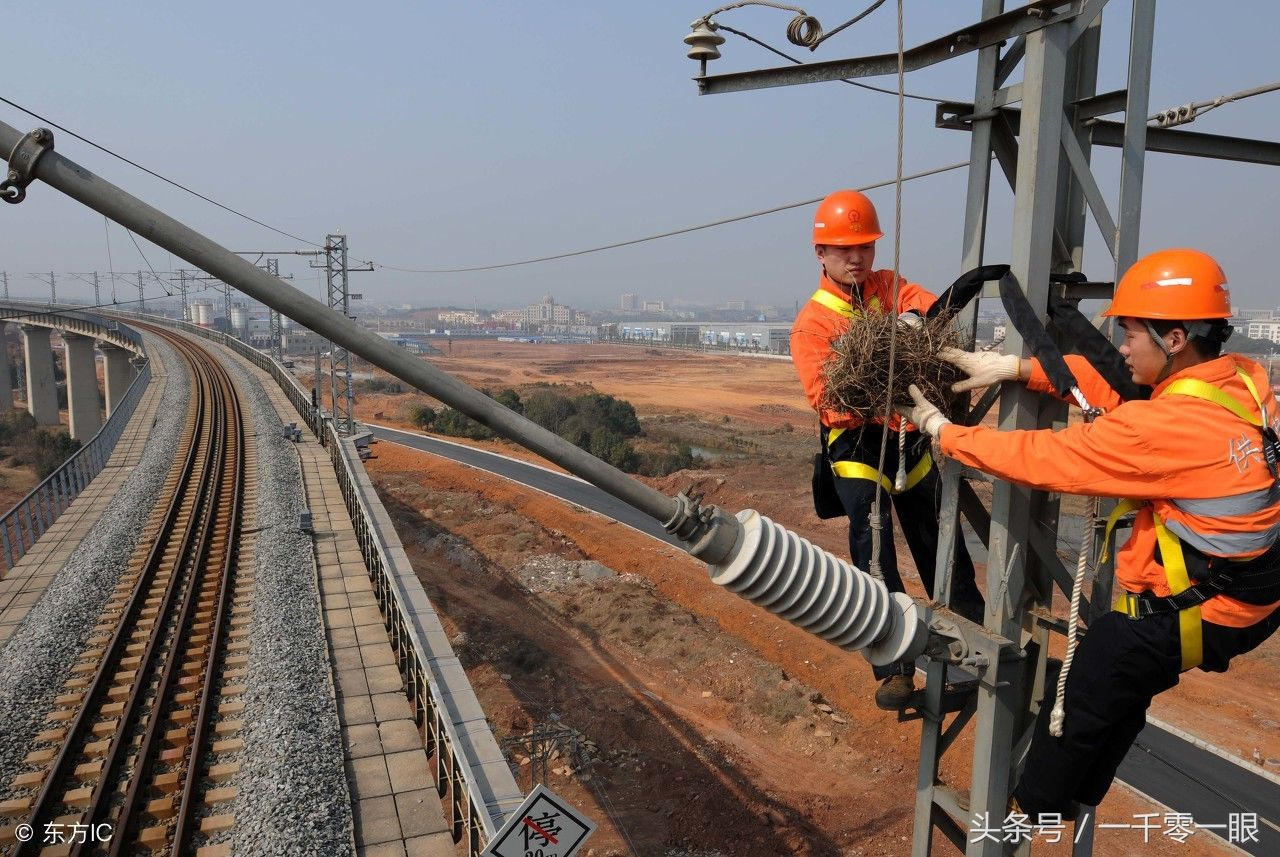bird-nest: (832, 314, 959, 409)
